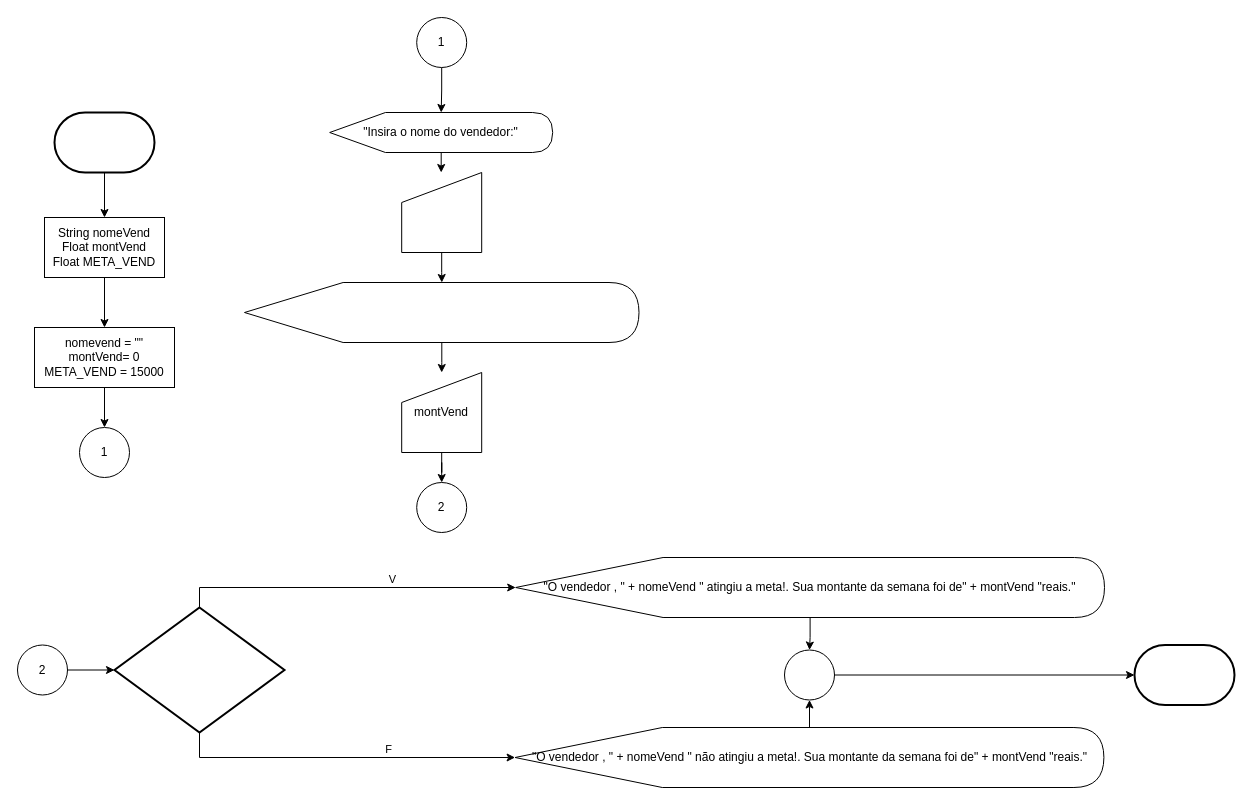
Some shapes in this 1253 by 805 pixel diagram are drawn without their labels. The centre of each missing label's shape, as x and y in pixels:
"Digite o montande de vendas da semana realizado.": the point at 441,312
fim: the point at 1184,675
Inicio: the point at 104,142
MontVend >= META_VEND: the point at 199,669
nomeVend: the point at 441,212
